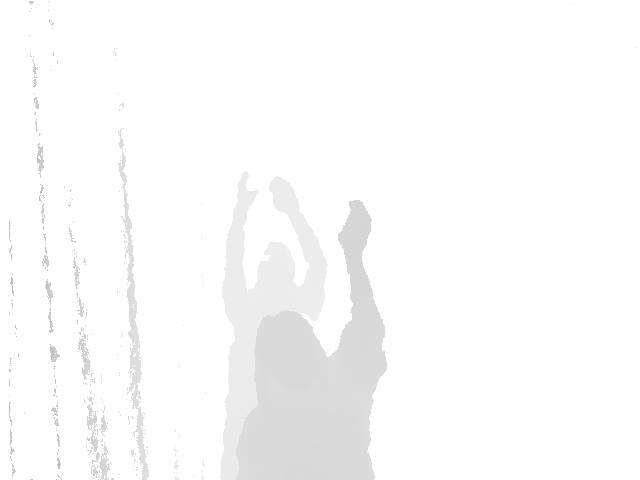hand: (336, 200, 372, 255), (268, 176, 300, 216), (236, 171, 260, 209)
head: (253, 311, 325, 397), (253, 240, 295, 284)
person: (235, 200, 389, 480), (221, 171, 328, 480)
